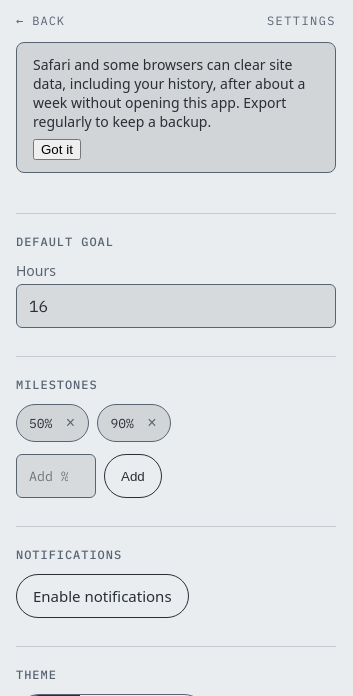
Test case: <Settings> notifications (spec §6.2) › does not enable when permission comes back denied
This screenshot has width=353, height=696.
Click the button "Enable notifications" at (102, 596), box [16,574,189,618]
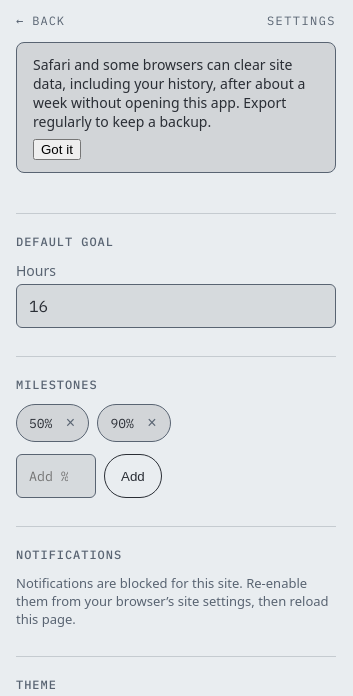
expect the text "blocked for this site" is shown: met, box [16,574,328,628]
